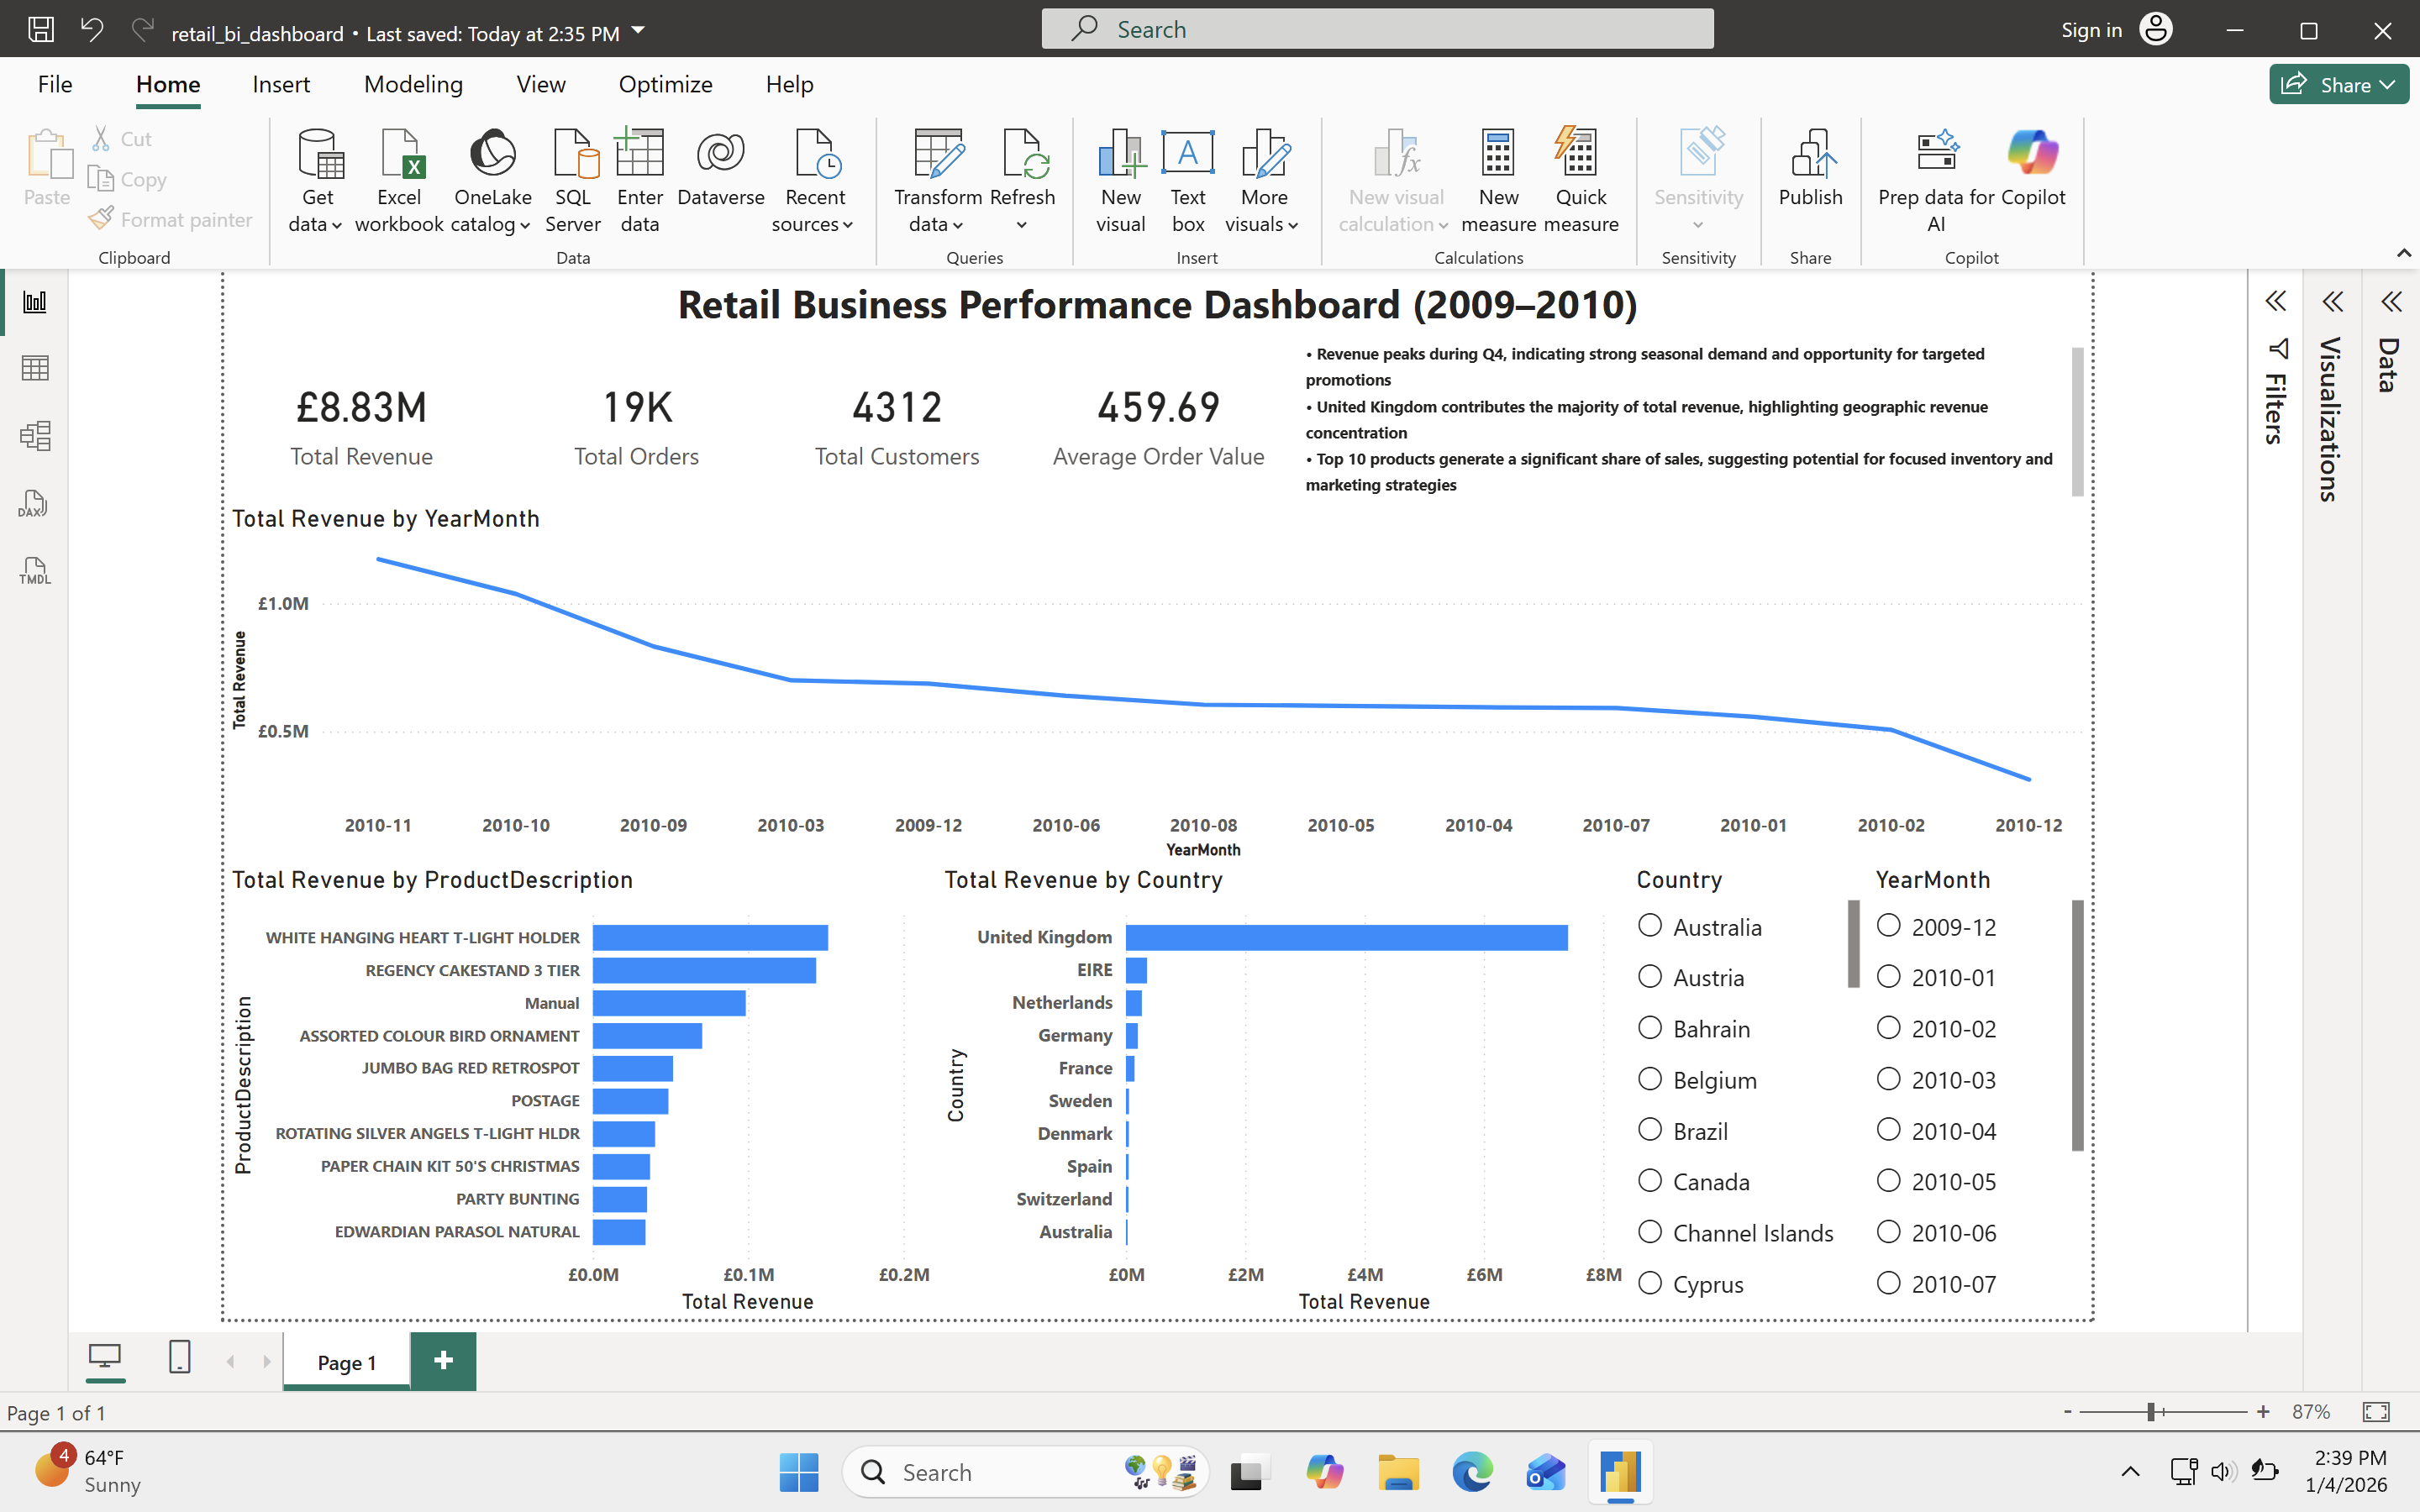

What the dashboard file says about the page in this screenshot:
{"tool":"powerbi","page":{"name":"Page 1","canvas":[1280,720],"ordinal":0},"visuals":[{"type":"lineChart","fields":{"Y":["cleaned_retail_data.Total Revenue"],"Category":["cleaned_retail_data.YearMonth"]},"box":[0,161.3,1279.9,247.7],"z":4000},{"type":"barChart","fields":{"Category":["cleaned_retail_data.ProductDescription"],"Y":["cleaned_retail_data.Total Revenue"]},"box":[0,408.8,488.4,312.3],"z":5000},{"type":"barChart","fields":{"Category":["cleaned_retail_data.Country"],"Y":["cleaned_retail_data.Total Revenue"]},"box":[488.4,408.8,474.6,312.3],"z":6000},{"type":"listSlicer","fields":{"Values":["cleaned_retail_data.Country"]},"box":[963.1,408.8,163.8,312.3],"z":7000},{"type":"listSlicer","fields":{"Values":["cleaned_retail_data.YearMonth"]},"box":[1126.9,408.8,153.1,312.3],"z":8000},{"type":"textbox","box":[297,0,685.9,45.9],"z":8001},{"type":"textbox","box":[736.1,46.1,543.7,115.2],"z":8002},{"type":"card","fields":{"Values":["cleaned_retail_data.Total Revenue"]},"box":[0,45.9,188.3,114.8],"z":8003},{"type":"card","fields":{"Values":["cleaned_retail_data.Total Orders"]},"box":[188.3,45.9,189.9,114.8],"z":8004},{"type":"card","fields":{"Values":["cleaned_retail_data.Total Customers"]},"box":[378.2,45.9,166.9,114.8],"z":8005},{"type":"card","fields":{"Values":["cleaned_retail_data.Average Order Value"]},"box":[545.1,45.9,191.4,114.8],"z":8006}]}

Visuals, with their boxes on the page's 1280x720 design canvas (x1, y1, x2, y2). These are canvas units, not pixel positions in the 2420x1512 screenshot, which may show the page scaled, cropped or inside an application window:
lineChart - cleaned_retail_data.Total Revenue x cleaned_retail_data.YearMonth: bbox=(0, 161, 1280, 409)
barChart - cleaned_retail_data.ProductDescription x cleaned_retail_data.Total Revenue: bbox=(0, 409, 488, 721)
barChart - cleaned_retail_data.Country x cleaned_retail_data.Total Revenue: bbox=(488, 409, 963, 721)
listSlicer - cleaned_retail_data.Country: bbox=(963, 409, 1127, 721)
listSlicer - cleaned_retail_data.YearMonth: bbox=(1127, 409, 1280, 721)
textbox: bbox=(297, 0, 983, 46)
textbox: bbox=(736, 46, 1280, 161)
card - cleaned_retail_data.Total Revenue: bbox=(0, 46, 188, 161)
card - cleaned_retail_data.Total Orders: bbox=(188, 46, 378, 161)
card - cleaned_retail_data.Total Customers: bbox=(378, 46, 545, 161)
card - cleaned_retail_data.Average Order Value: bbox=(545, 46, 736, 161)
